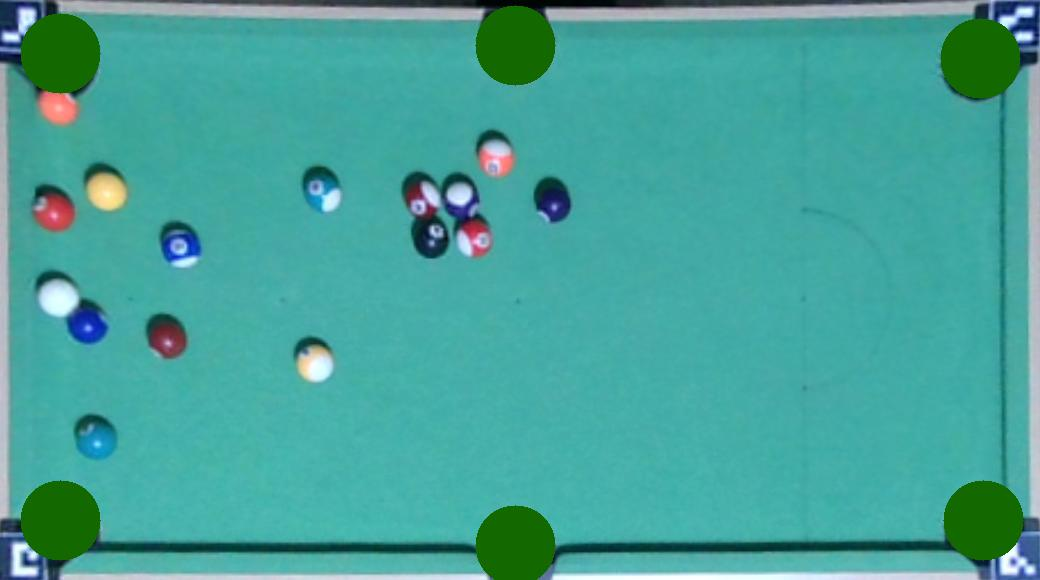Ball: (302, 167, 345, 214), (159, 225, 203, 270), (36, 278, 83, 319), (31, 190, 76, 231), (86, 171, 129, 212), (75, 420, 118, 460), (146, 318, 189, 358), (476, 136, 516, 178), (68, 305, 111, 344), (296, 344, 336, 384), (534, 180, 573, 221), (403, 178, 442, 218), (412, 218, 452, 257), (442, 178, 481, 217), (37, 91, 80, 126), (456, 218, 494, 257)
